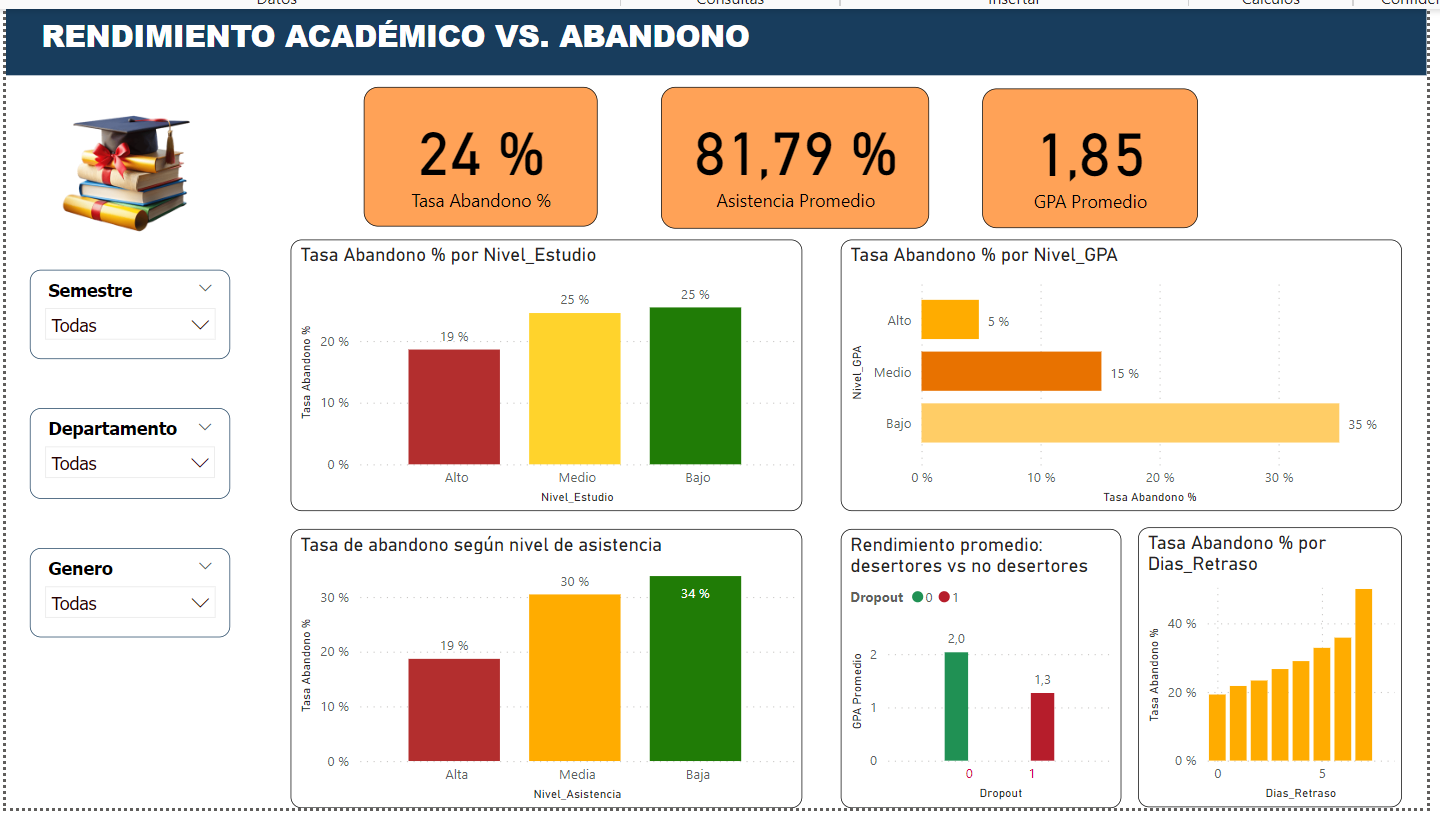

This screenshot's page, from the dashboard's own definition file:
{"tool":"powerbi","page":{"name":"Rendimiento","canvas":[1280,720],"ordinal":1},"visuals":[{"type":"slicer","fields":{"Values":["student_dropout_dataset_v3.Semestre"]},"box":[21.5,234.4,180.7,80.5],"z":0},{"type":"slicer","fields":{"Values":["student_dropout_dataset_v3.Genero"]},"box":[21.5,484.9,180.7,80.5],"z":1000},{"type":"textbox","box":[0,0,1280,60],"z":2000},{"type":"image","box":[22.9,68.8,179.1,150.4],"z":3000},{"type":"clusteredBarChart","fields":{"Y":["Medidas.Tasa Abandono"],"Category":["student_dropout_dataset_v3.Nivel_GPA"]},"box":[752.2,208.3,505.9,244.7],"z":4000},{"type":"clusteredColumnChart","title":"Rendimiento promedio: desertores vs no desertores","fields":{"Y":["Medidas.GPA Promedio"],"Category":["student_dropout_dataset_v3.Dropout"],"Series":["student_dropout_dataset_v3.Dropout"]},"box":[752.2,467.8,252.9,251.3],"z":5000},{"type":"columnChart","title":"Tasa de abandono según nivel de asistencia","fields":{"Category":["student_dropout_dataset_v3.Nivel_Asistencia"],"Y":["Medidas.Tasa Abandono %"]},"box":[256.2,467.8,461.2,251.3],"z":6000},{"type":"clusteredColumnChart","fields":{"Y":["Medidas.Tasa Abandono"],"Category":["student_dropout_dataset_v3.Nivel_Estudio"]},"box":[256.2,208.3,461.2,244.7],"z":7000},{"type":"clusteredColumnChart","fields":{"Category":["student_dropout_dataset_v3.Dias_Retraso"],"Y":["Medidas.Tasa Abandono %"]},"box":[1020,467.1,238,252.3],"z":8000},{"type":"card","fields":{"Values":["Medidas.Tasa Abandono %"]},"box":[321.7,69.7,210.5,126],"z":9000},{"type":"card","fields":{"Values":["Medidas.GPA Promedio"]},"box":[879.2,71.2,194.2,126],"z":10000},{"type":"card","fields":{"Values":["Medidas.Asistencia Promedio"]},"box":[590.1,69.7,241.7,127.5],"z":11000},{"type":"slicer","fields":{"Values":["student_dropout_dataset_v3.Departamento"]},"box":[21.5,359.6,180.5,81.7],"z":12000}]}

Visuals, with their boxes on the page's 1280x720 design canvas (x1, y1, x2, y2). These are canvas units, not pixel positions in the 1440x817 screenshot, which may show the page scaled, cropped or inside an application window:
slicer - student_dropout_dataset_v3.Semestre: x1=22, y1=234, x2=202, y2=315
slicer - student_dropout_dataset_v3.Genero: x1=22, y1=485, x2=202, y2=565
textbox: x1=0, y1=0, x2=1280, y2=60
image: x1=23, y1=69, x2=202, y2=219
clusteredBarChart - Medidas.Tasa Abandono x student_dropout_dataset_v3.Nivel_GPA: x1=752, y1=208, x2=1258, y2=453
"Rendimiento promedio: desertores vs no desertores" clusteredColumnChart: x1=752, y1=468, x2=1005, y2=719
"Tasa de abandono según nivel de asistencia" columnChart: x1=256, y1=468, x2=717, y2=719
clusteredColumnChart - Medidas.Tasa Abandono x student_dropout_dataset_v3.Nivel_Estudio: x1=256, y1=208, x2=717, y2=453
clusteredColumnChart - student_dropout_dataset_v3.Dias_Retraso x Medidas.Tasa Abandono %: x1=1020, y1=467, x2=1258, y2=719
card - Medidas.Tasa Abandono %: x1=322, y1=70, x2=532, y2=196
card - Medidas.GPA Promedio: x1=879, y1=71, x2=1073, y2=197
card - Medidas.Asistencia Promedio: x1=590, y1=70, x2=832, y2=197
slicer - student_dropout_dataset_v3.Departamento: x1=22, y1=360, x2=202, y2=441
